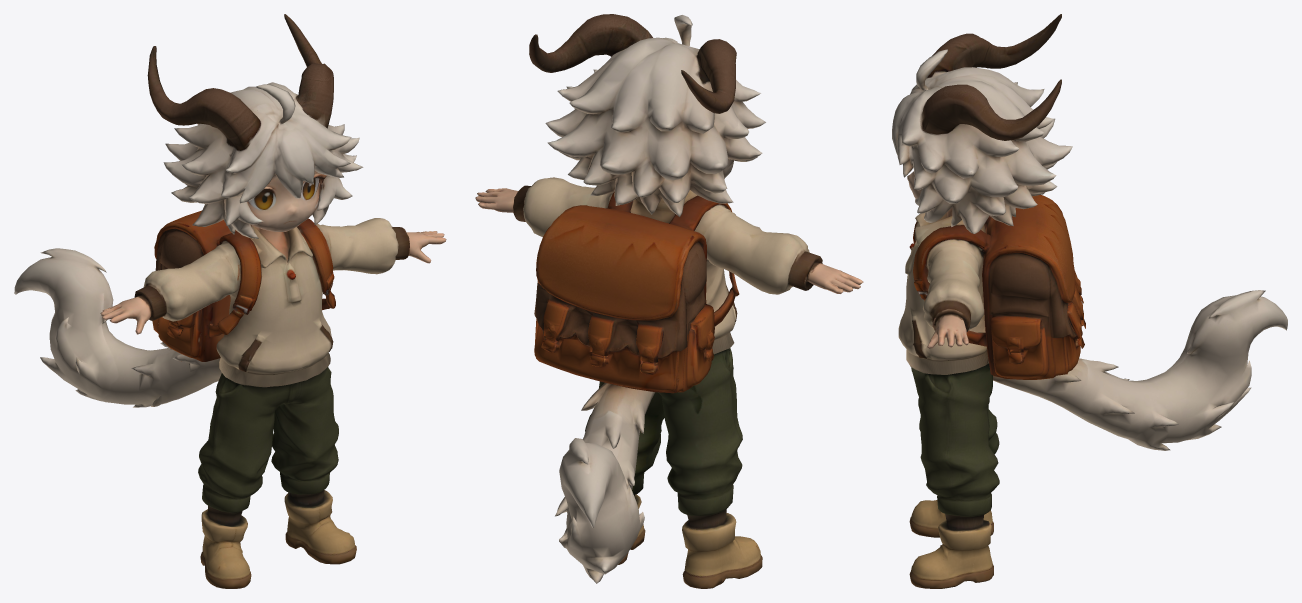
The model's file is Anime Ram Boy Character.glb.
The picture shows the model from 3 angles, left to right: view 1: azimuth 30°, elevation 25°; view 2: azimuth 150°, elevation 25°; view 3: azimuth 270°, elevation 25°; orthographic projection. The views are drawn at different scales.
Parts seen in each view (by area): view 1: pb_node; view 2: pb_node; view 3: pb_node.
Boxes of the visible parts, x1,y1,x2,y2 form: pb_node: (14,14,446,588); pb_node: (475,14,863,588); pb_node: (892,14,1287,588).
Bounding box in the file's own units: 0.7246 × 0.998 × 0.7051.
Materials: 1 (1 with a texture image).
